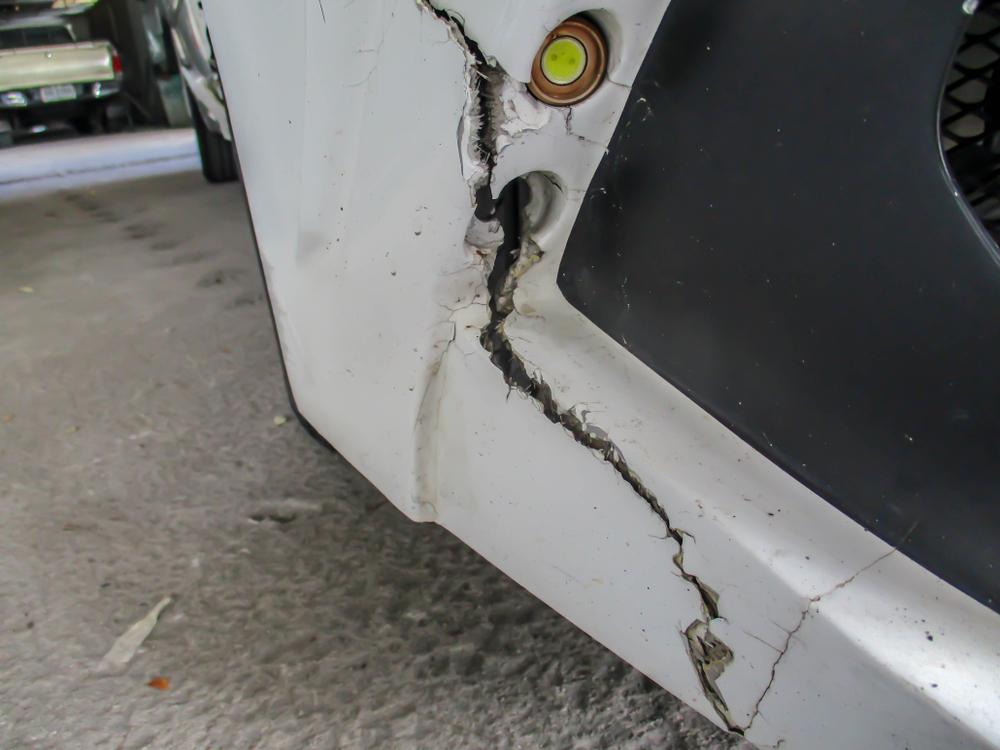crack: (419, 0, 900, 736)
